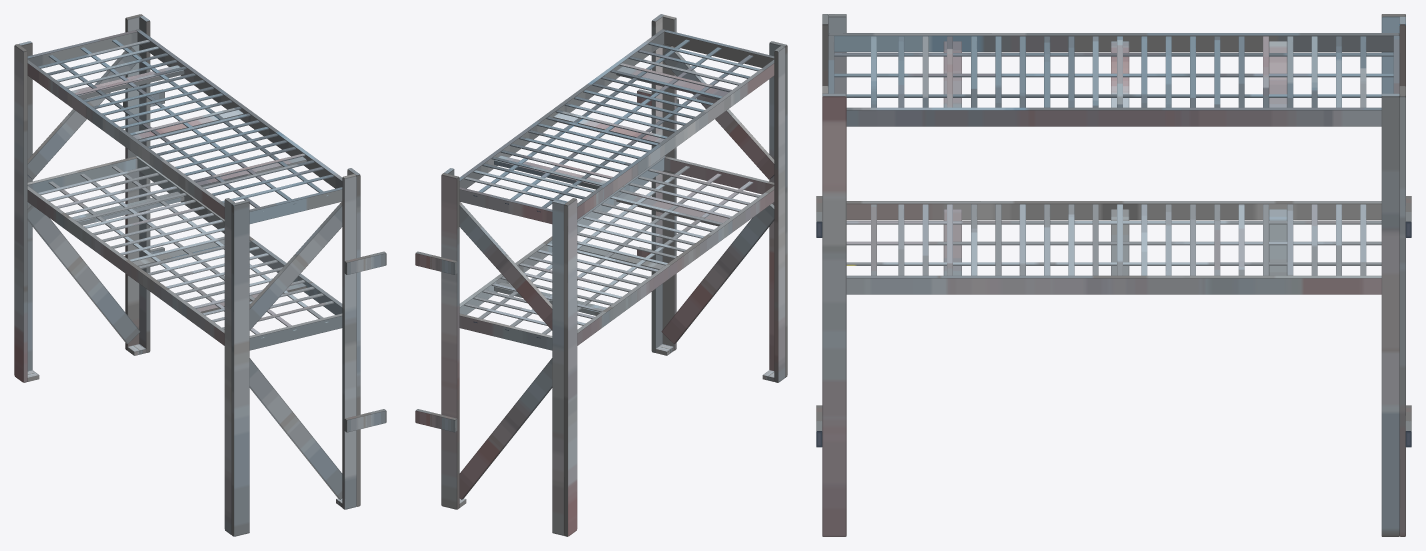
The model's file is Shelving_4.fbx.
3 views of the same model, side by side, from view 1: azimuth 30°, elevation 25°; view 2: azimuth 150°, elevation 25°; view 3: azimuth 270°, elevation 25° (orthographic). The views are drawn at different scales.
Parts seen in each view (by area): view 1: cuboid_2, cuboid, cuboid_5, cuboid_39, cuboid_8, cuboid_73, cuboid_72, cuboid_40, cuboid_3, cuboid_70, cuboid_6, cuboid_9 (+21 smaller); view 2: cuboid_6, cuboid, cuboid_1, cuboid_3, cuboid_39, cuboid_8, cuboid_72, cuboid_73, cuboid_40, cuboid_2, cuboid_71, cuboid_5 (+20 smaller); view 3: cuboid_4, cuboid_40, cuboid_9, cuboid_39, cuboid_7, cuboid_8, cuboid_6, cuboid_54, cuboid_23, cuboid_53, cuboid_55, cuboid_22 (+9 smaller).
Boxes of the visible parts, box(x1,y1,x2,y2) form: cuboid_2: box(231, 200, 249, 536); cuboid: box(14, 44, 27, 382); cuboid_5: box(342, 174, 356, 509); cuboid_39: box(27, 59, 224, 219); cuboid_8: box(27, 186, 224, 345); cuboid_73: box(27, 204, 140, 343); cuboid_72: box(249, 358, 342, 499); cuboid_40: box(136, 29, 342, 188); cuboid_3: box(224, 198, 234, 534); cuboid_70: box(249, 202, 342, 330); cuboid_6: box(125, 14, 142, 350); cuboid_9: box(136, 156, 342, 314); cuboid_6: box(441, 173, 459, 509); cuboid: box(564, 198, 577, 536); cuboid_1: box(552, 200, 565, 535); cuboid_3: box(774, 45, 785, 382); cuboid_39: box(577, 59, 774, 219); cuboid_8: box(577, 186, 774, 345); cuboid_72: box(661, 204, 774, 343); cuboid_73: box(459, 358, 552, 499); cuboid_40: box(459, 29, 665, 188); cuboid_2: box(769, 41, 787, 377); cuboid_71: box(459, 202, 552, 330); cuboid_5: box(662, 15, 676, 350); cuboid_4: box(822, 93, 846, 536); cuboid_40: box(846, 107, 1381, 126); cuboid_9: box(846, 275, 1381, 294); cuboid_39: box(828, 33, 1399, 52); cuboid_7: box(1381, 93, 1399, 536); cuboid_8: box(846, 201, 1381, 220); cuboid_6: box(1399, 86, 1405, 536); cuboid_54: box(834, 73, 1393, 77); cuboid_23: box(846, 241, 1381, 245); cuboid_53: box(834, 53, 1393, 56); cuboid_55: box(846, 94, 1381, 97); cuboid_22: box(846, 221, 1381, 224).
Size of the model in its own units: 119 by 250 by 306.
3 materials, 3 textured.
